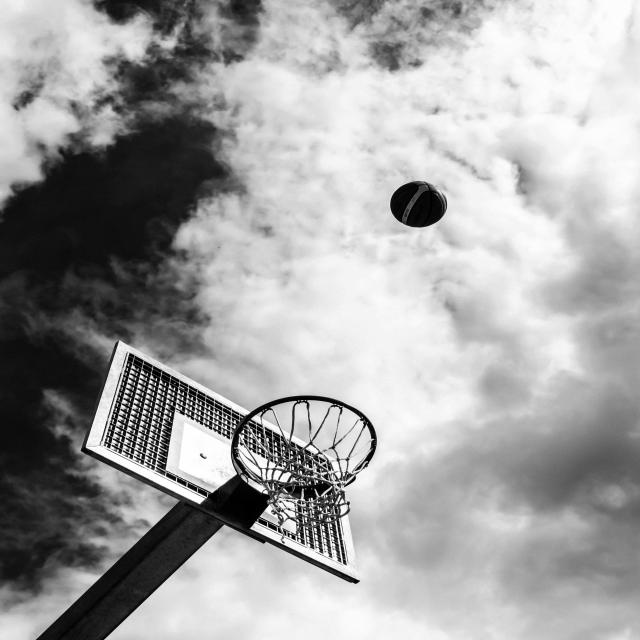backboard: (88, 341, 355, 575)
